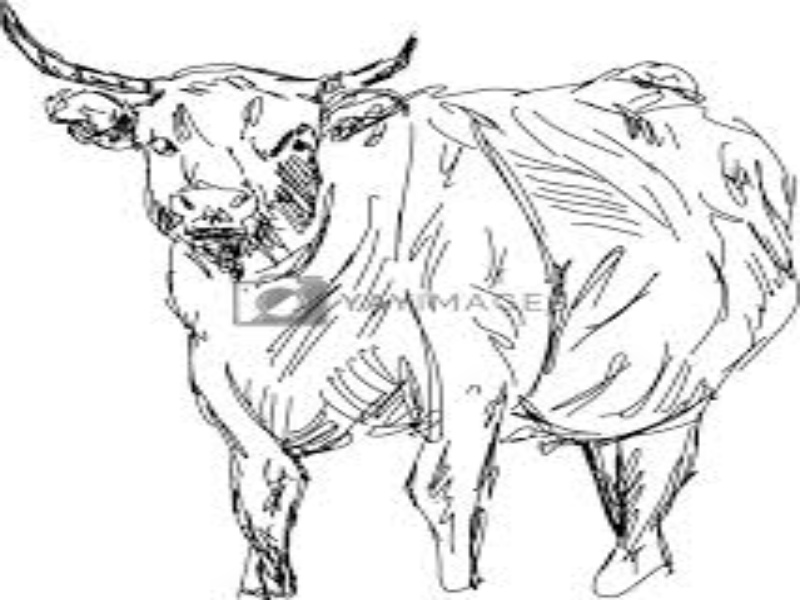buffalo: (7, 23, 785, 592)
